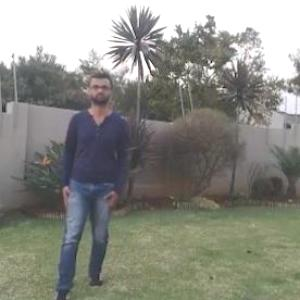follow: (50, 48, 135, 299)
